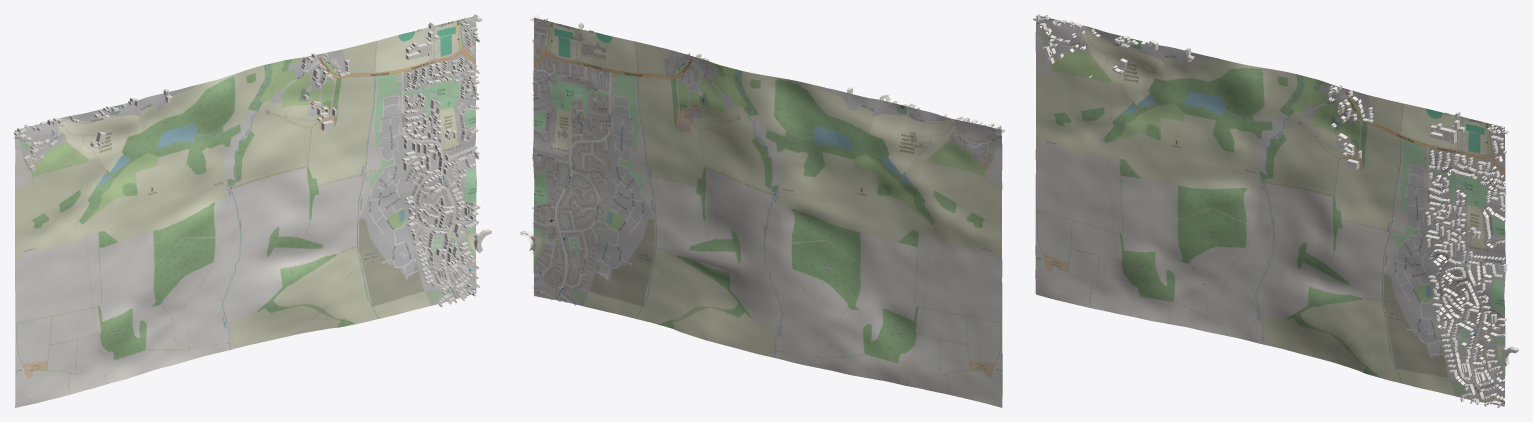
File: ground.glb
3 views of the same model, side by side, from view 1: azimuth 30°, elevation 25°; view 2: azimuth 150°, elevation 25°; view 3: azimuth 330°, elevation 25° (orthographic).
Visible parts, largest first — view 1: Areas:building; view 2: Areas:building; view 3: Areas:building.
Boxes of the visible parts, x1,y1,x2,y2 form: Areas:building: (14, 14, 491, 407); Areas:building: (520, 14, 1004, 407); Areas:building: (1033, 14, 1518, 407).
Bounding box in the file's own units: 2204 × 1250 × 67.22.
Materials: 1 (1 with a texture image).
